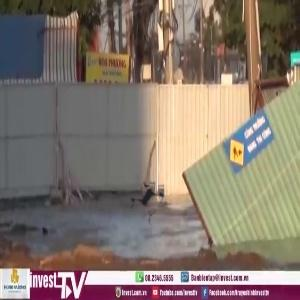drone: (106, 159, 188, 241)
